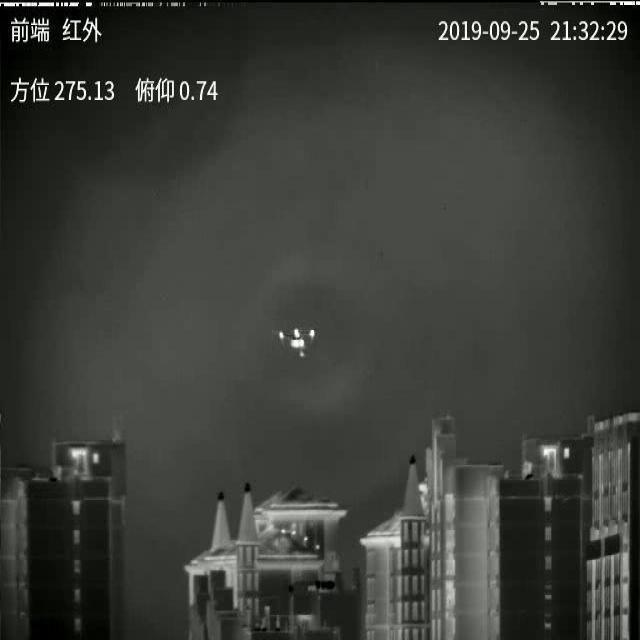drone: (278, 327, 315, 358)
